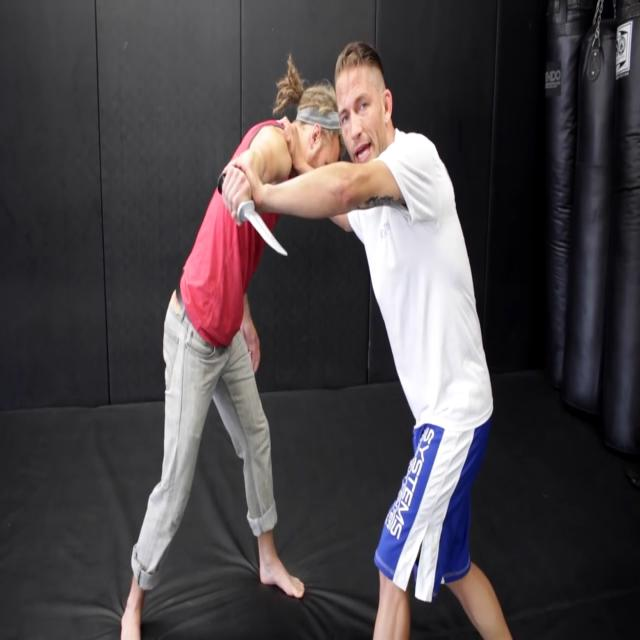knife: (237, 200, 290, 264)
